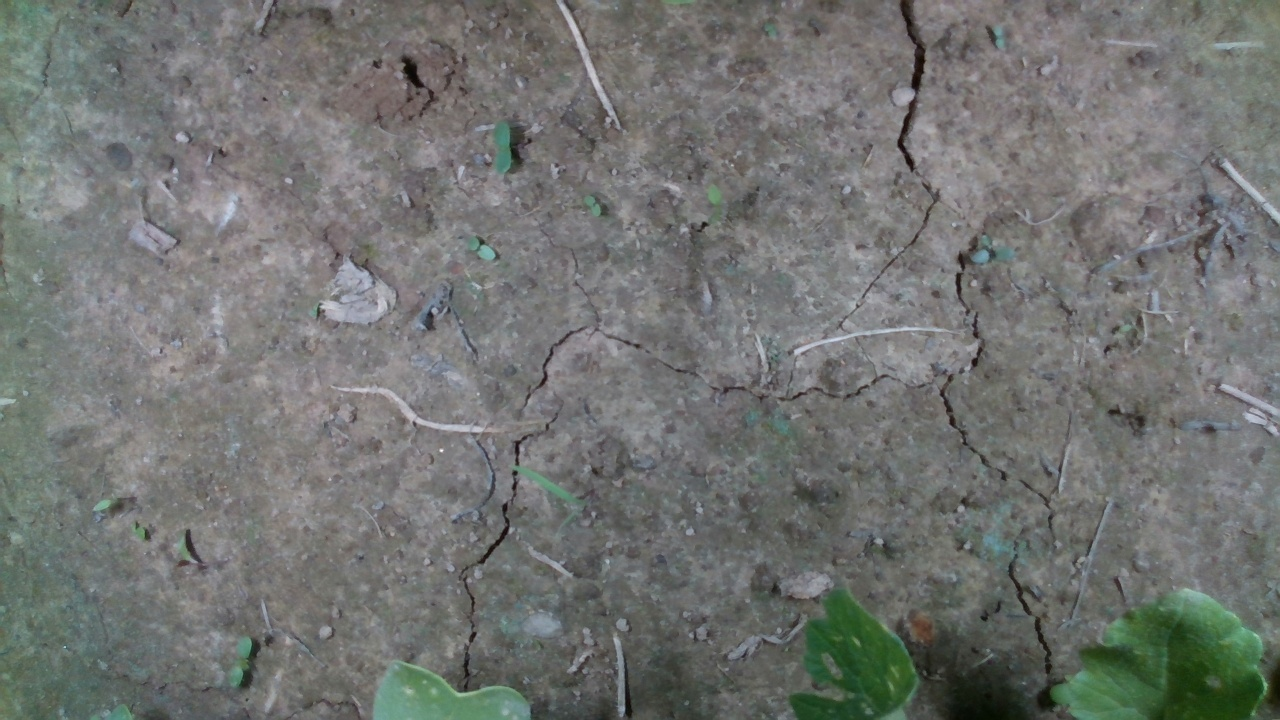weed: (224, 634, 253, 690), (461, 232, 498, 262), (492, 117, 510, 175), (583, 194, 602, 217)
